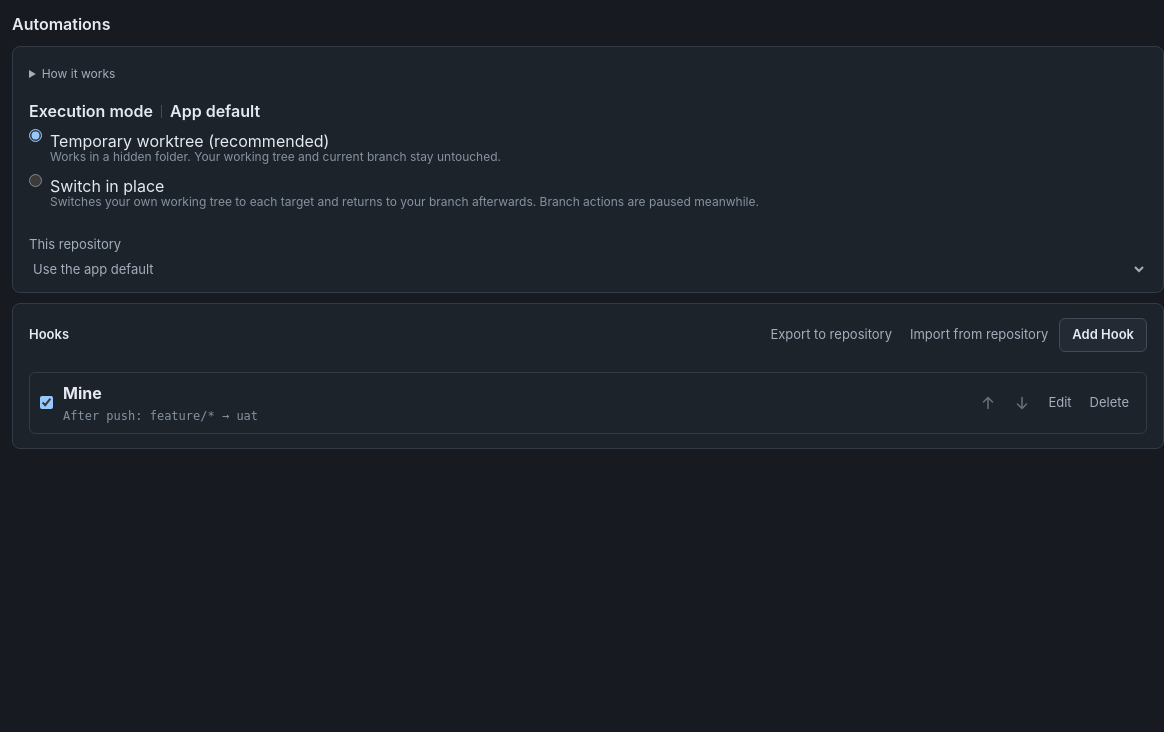
Test: reviews imported rules first, and saves them only after confirmation
The image size is (1164, 732).
Expected: the text "Mine" is shown, [63, 382, 102, 402]
Click the button "Import from repository" at (979, 334), box [903, 318, 1055, 352]
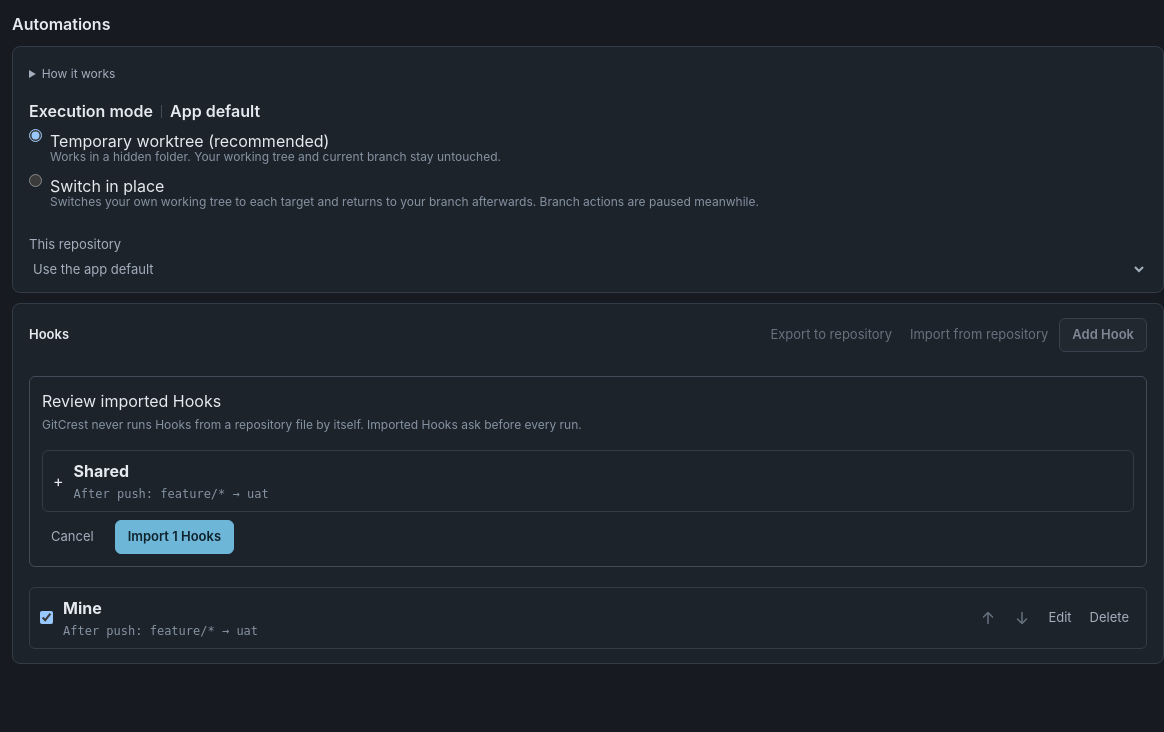
Expected: the text "Shared" is shown, [74, 460, 129, 480]
Expected: the text "never runs Hooks from a repository file by itself" is shown, [42, 416, 582, 432]
Expected: the element "Review imported Hooks" is shown, [29, 376, 1147, 566]
Click the button "Import 1 Hooks" at (174, 536), box [115, 520, 234, 554]
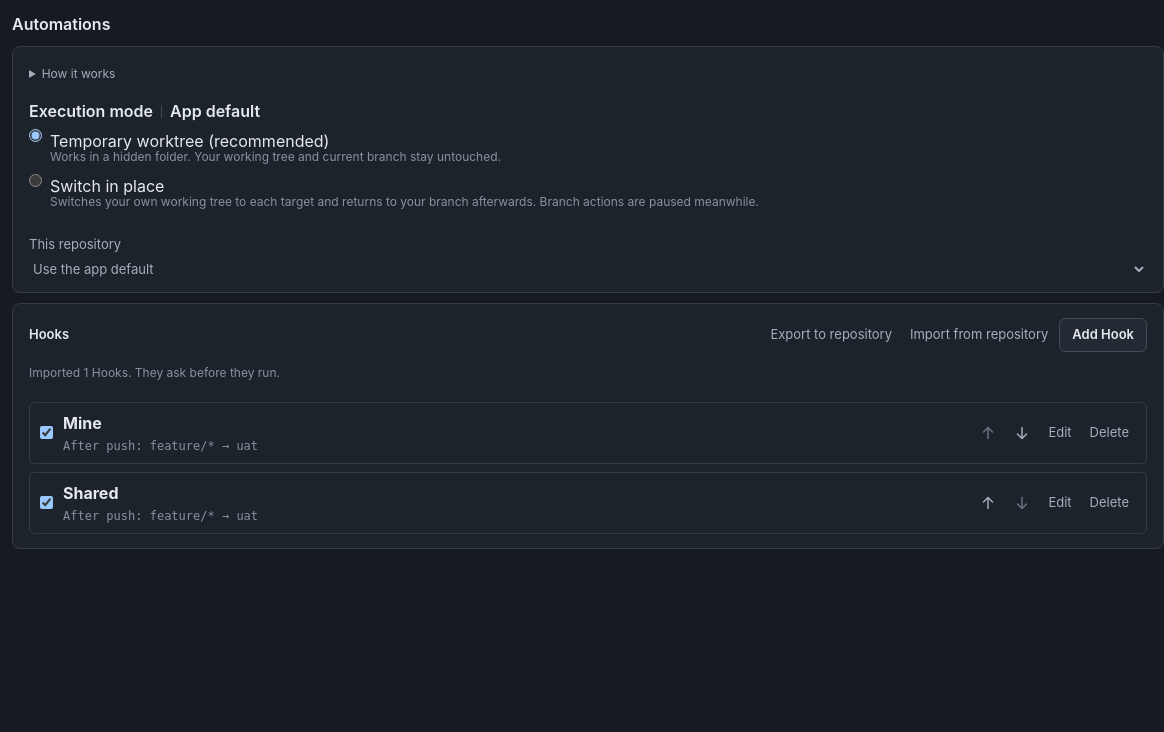
Expected: the text "Shared" is shown, [63, 482, 118, 502]
Expected: the heading "Review imported Hooks" is gone
Expected: the text "Imported 1 Hooks. They ask before they run." is shown, [29, 364, 280, 380]
